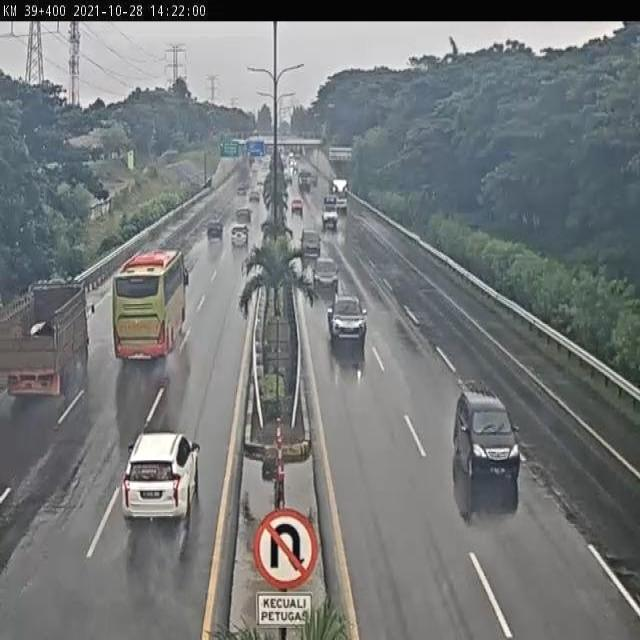Bus: (108, 244, 188, 370), (327, 176, 354, 216)
Car: (110, 426, 206, 532), (455, 393, 529, 490), (332, 288, 368, 354), (313, 259, 342, 289), (297, 228, 323, 257), (204, 213, 226, 240), (321, 199, 340, 230), (231, 224, 251, 252), (288, 192, 310, 215)
Truck: (0, 284, 89, 404)
